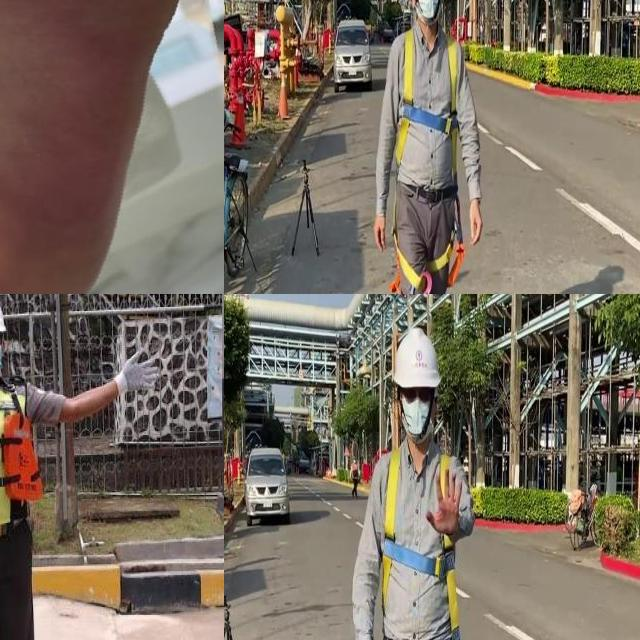Barefoots: (0, 0, 218, 294)
Harness: (383, 449, 461, 640), (397, 30, 460, 180), (390, 223, 461, 294), (446, 231, 465, 288)
person: (0, 294, 180, 640)
vest: (0, 380, 46, 528)
